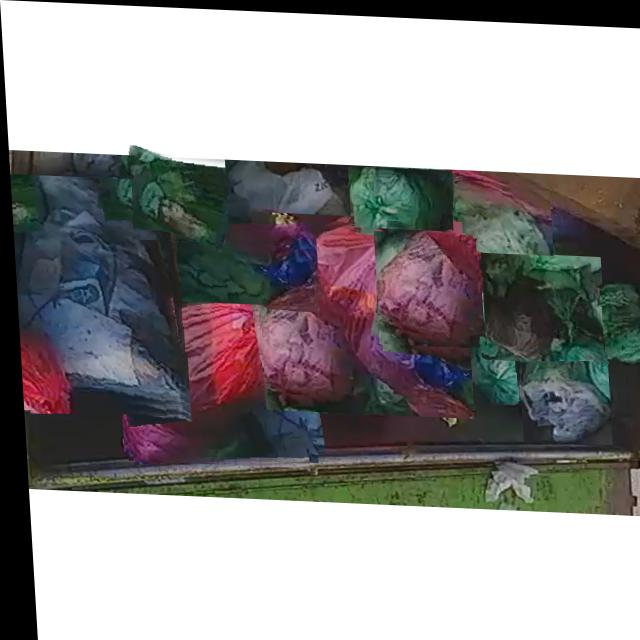general_trashbag: (482, 250, 600, 354), (157, 230, 310, 302), (446, 173, 550, 267), (130, 145, 225, 240), (518, 349, 606, 436), (351, 164, 451, 222), (467, 332, 533, 401), (587, 280, 640, 356)
other_trashbag: (255, 218, 470, 414), (15, 176, 184, 404), (121, 277, 296, 460), (374, 226, 474, 342)
